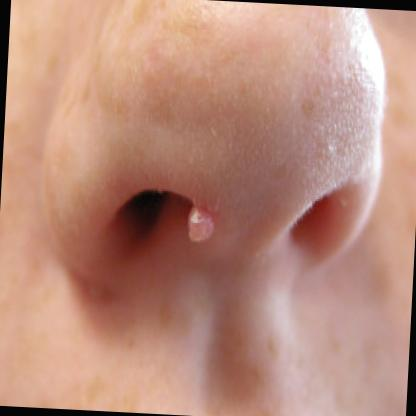Warts: (177, 193, 221, 254)
